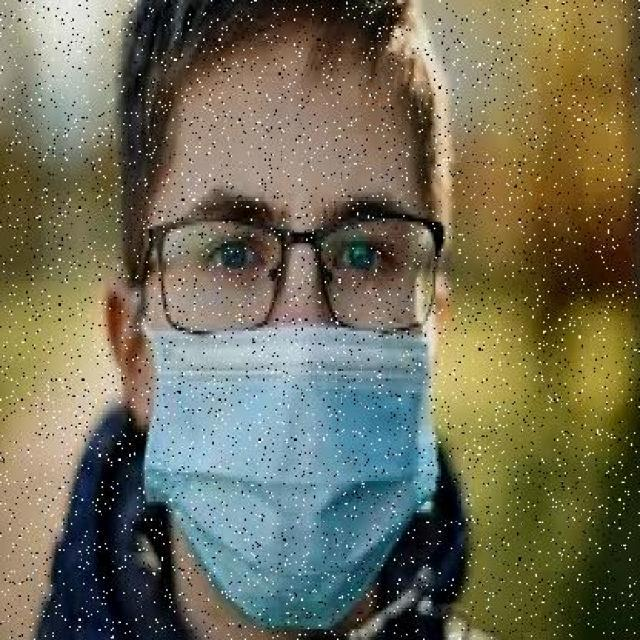mask: (144, 185, 448, 342)
